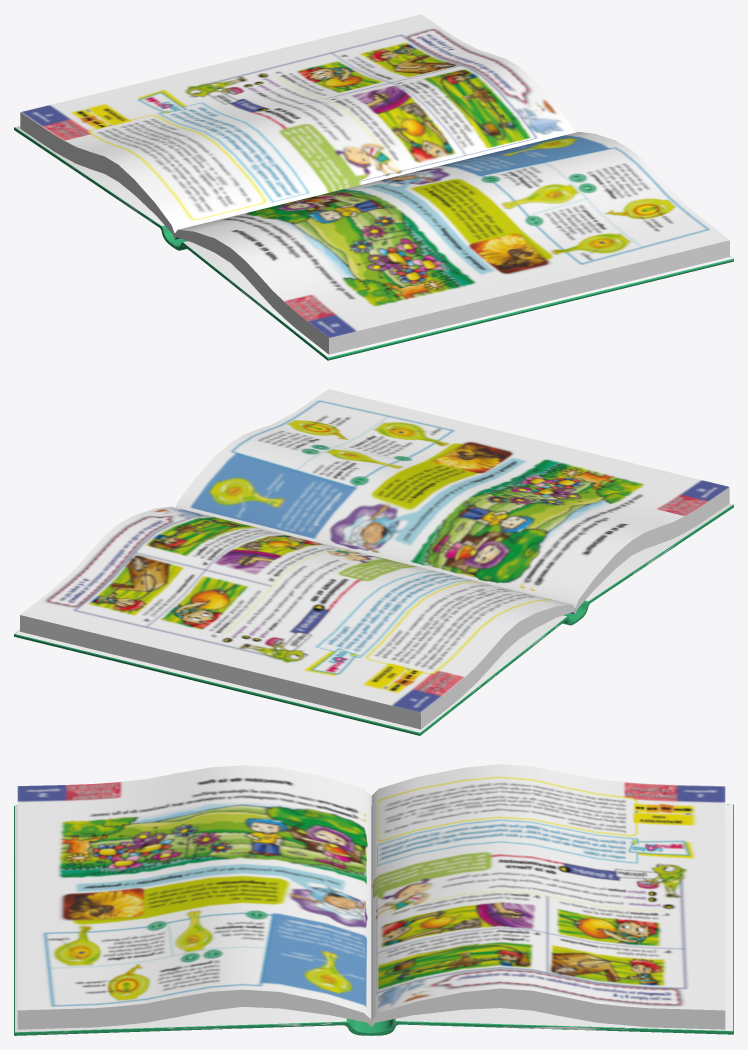
File: Book 1.FBX
The picture shows the model from 3 angles, top to bottom: view 1: azimuth 30°, elevation 25°; view 2: azimuth 150°, elevation 25°; view 3: azimuth 270°, elevation 25°; orthographic projection. The views are drawn at different scales.
Visible parts, largest first — view 1: book 1; view 2: book 1; view 3: book 1.
Boxes of the visible parts, box(x1,y1,x2,y2) form: book 1: box(14, 14, 733, 360); book 1: box(14, 389, 733, 735); book 1: box(14, 764, 733, 1035).
Size of the model in its own units: 30.97 by 2.94 by 41.46.
1 material, 1 textured.
